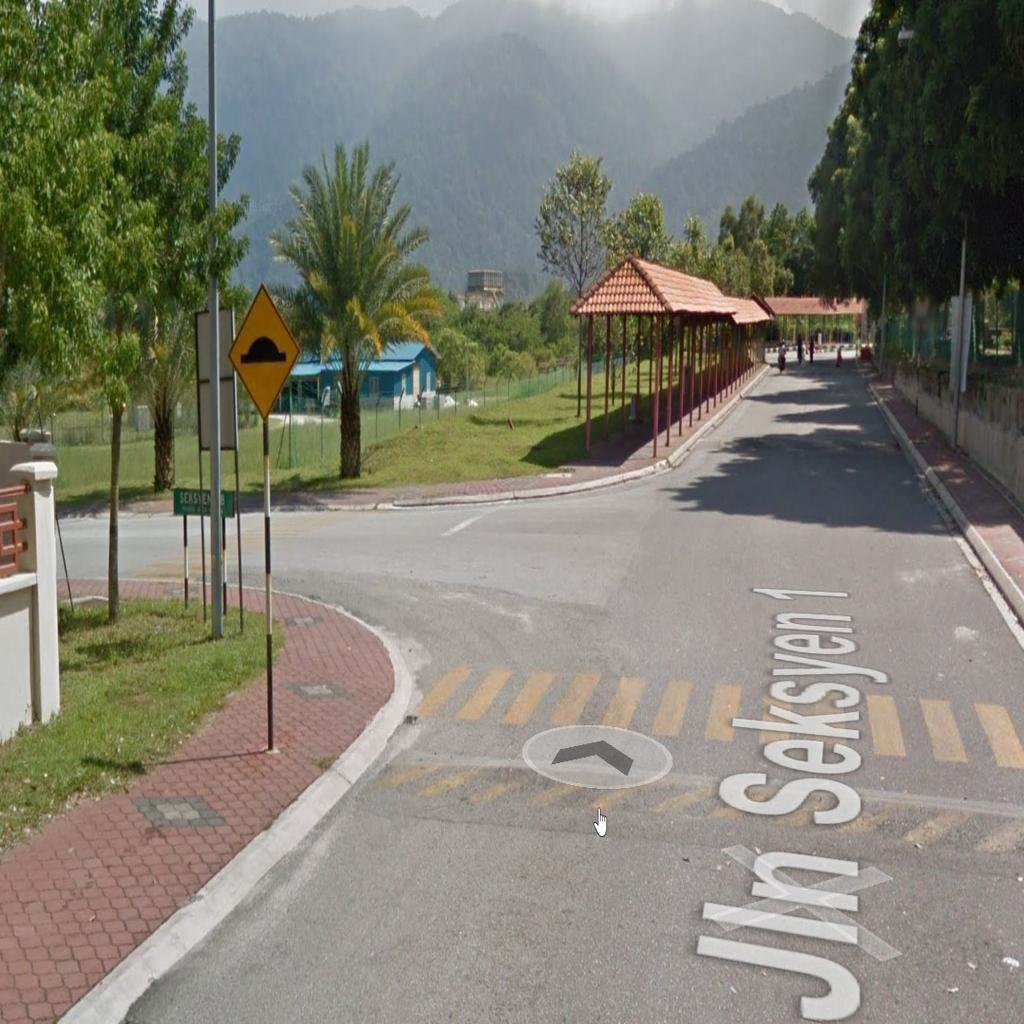Junction: (134, 477, 693, 687)
